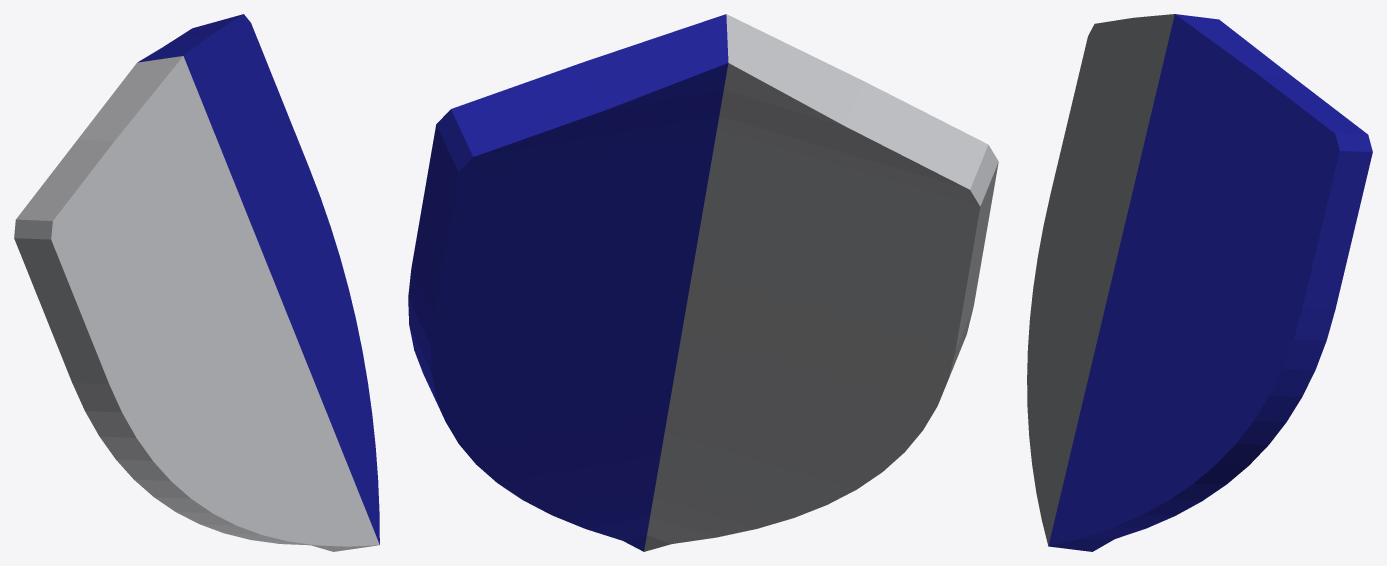
File: shield.glb
The picture shows the model from 3 angles, left to right: view 1: azimuth 30°, elevation 25°; view 2: azimuth 150°, elevation 25°; view 3: azimuth 270°, elevation 25°; orthographic projection. The views are drawn at different scales.
Parts seen in each view (by area): view 1: Kavach_Shield; view 2: Kavach_Shield; view 3: Kavach_Shield.
Part boxes in pixels (bbox=[...]): Kavach_Shield: bbox=[14, 14, 379, 551]; Kavach_Shield: bbox=[408, 14, 998, 551]; Kavach_Shield: bbox=[1027, 14, 1372, 551].
Size of the model in its own units: 1.39 by 1.66 by 1.07.
